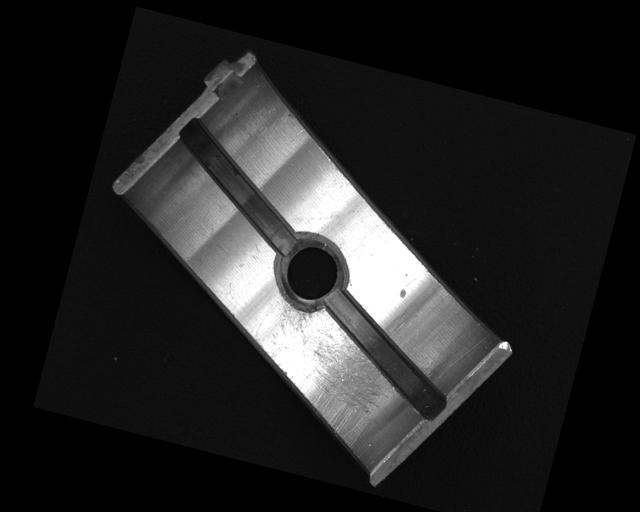bruise: (397, 287, 407, 300)
gap: (157, 114, 322, 258), (305, 288, 465, 422)
hole: (265, 230, 355, 319)
scratch: (246, 293, 402, 451)
